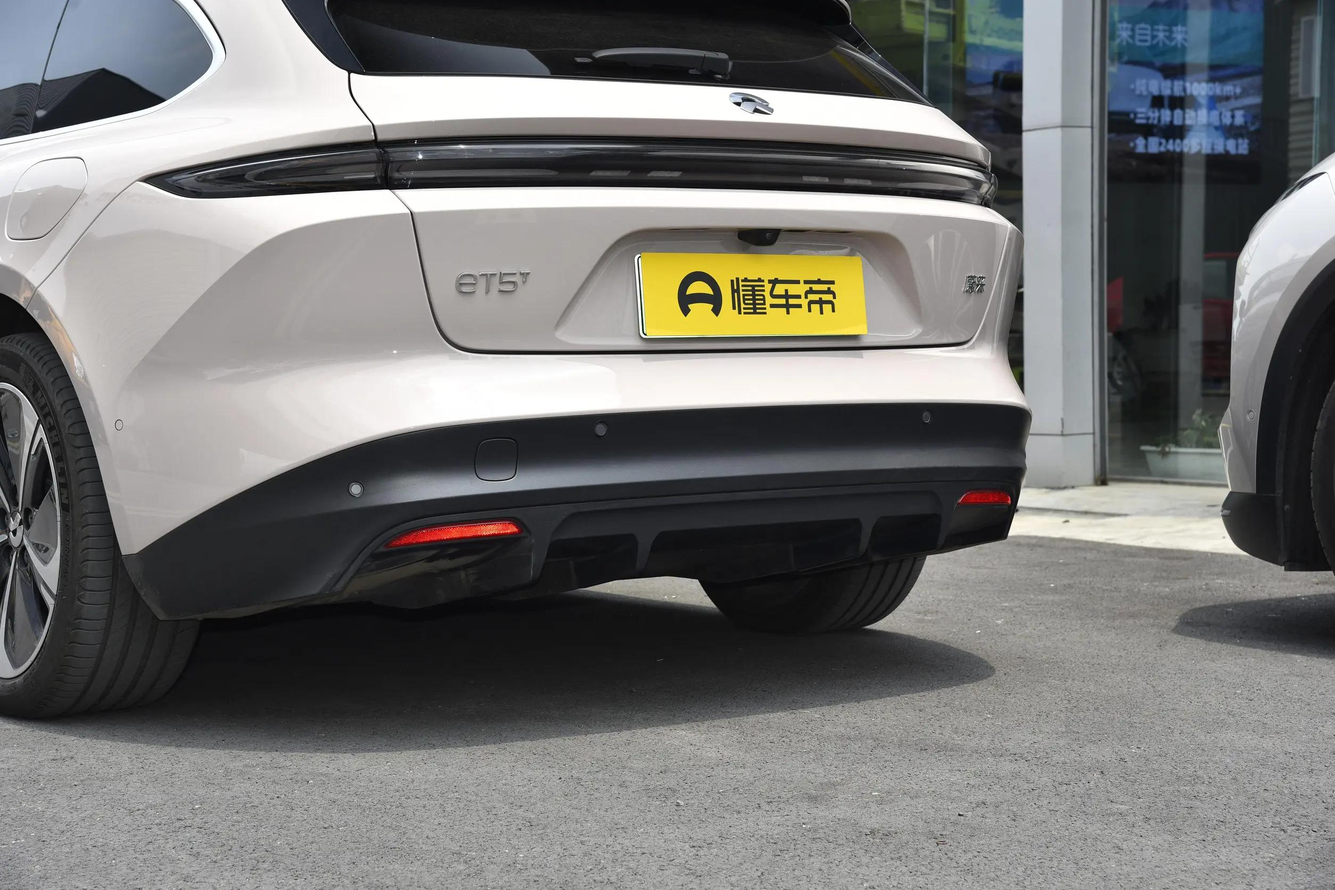NIO: (729, 92, 774, 114)
